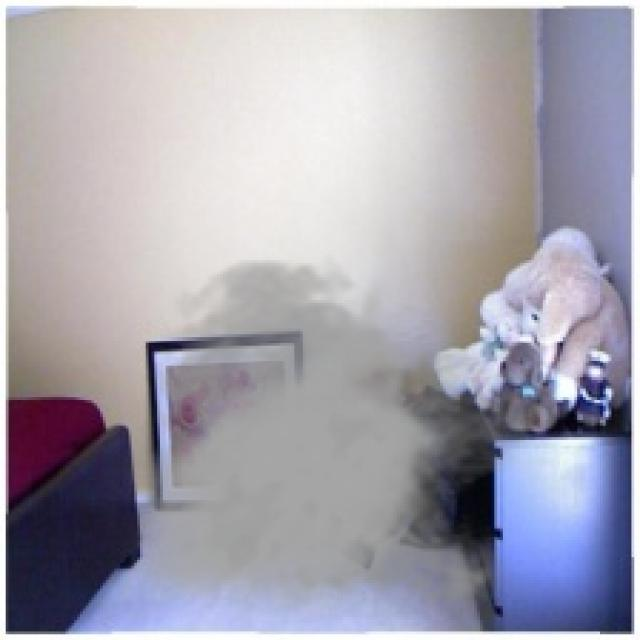Smoke: (122, 254, 538, 617)
